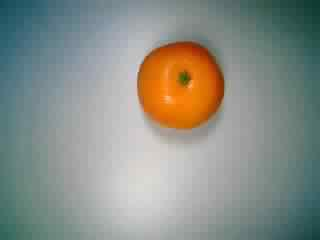orange: (129, 38, 225, 134)
